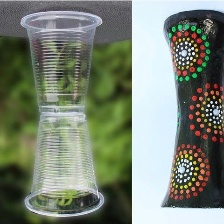glass: (14, 9, 117, 119), (21, 110, 107, 218)
